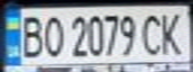0: (84, 11, 106, 57)
2: (66, 11, 87, 58)
7: (103, 11, 121, 57)
9: (118, 11, 139, 57)
B: (15, 11, 45, 58)
C: (139, 10, 166, 56)
K: (157, 8, 190, 56)
O: (39, 11, 66, 60)
